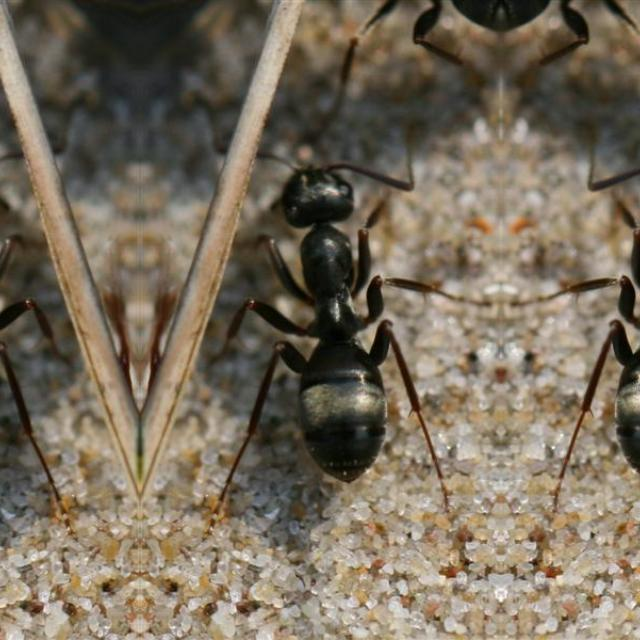Formica: (181, 101, 485, 518), (516, 100, 640, 518), (0, 100, 96, 516)
